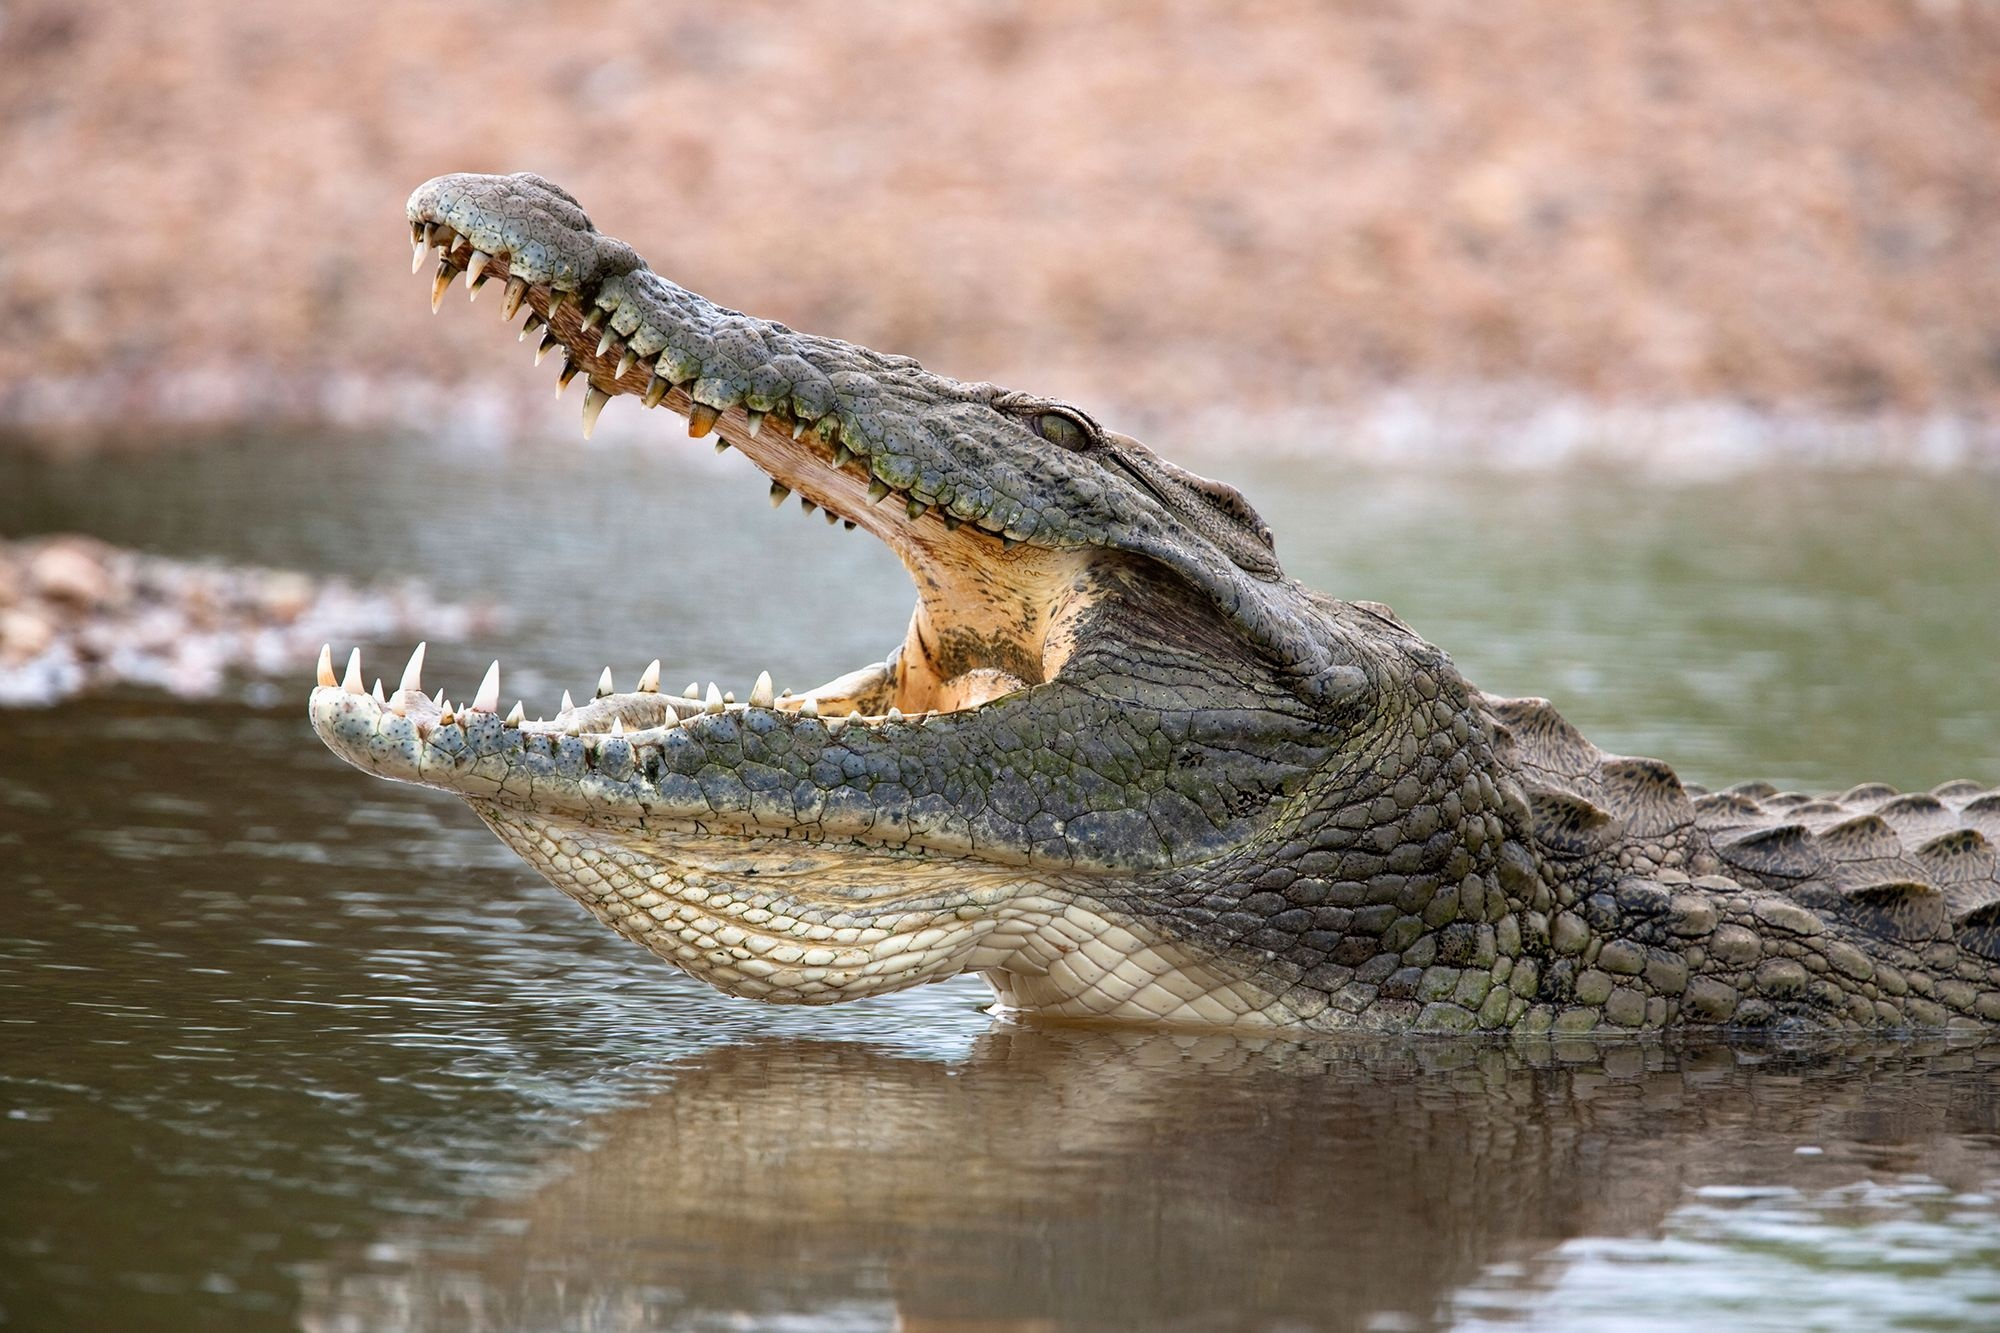crocodile: (297, 164, 2000, 1135)
